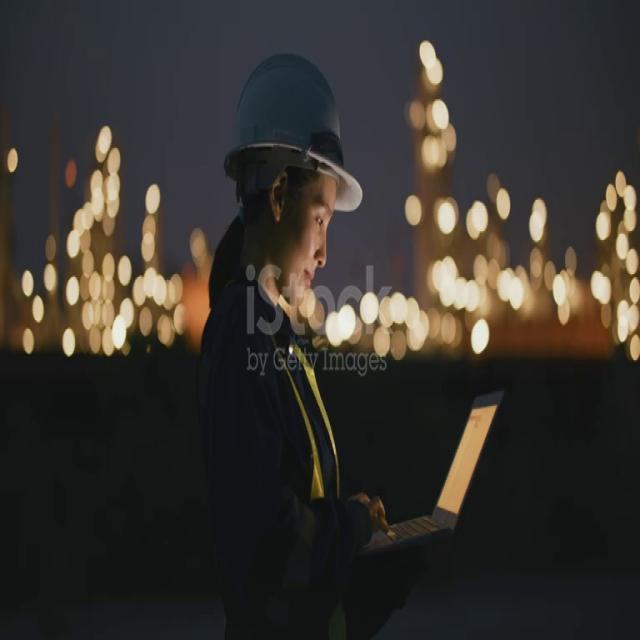capacete: (213, 35, 365, 224)
